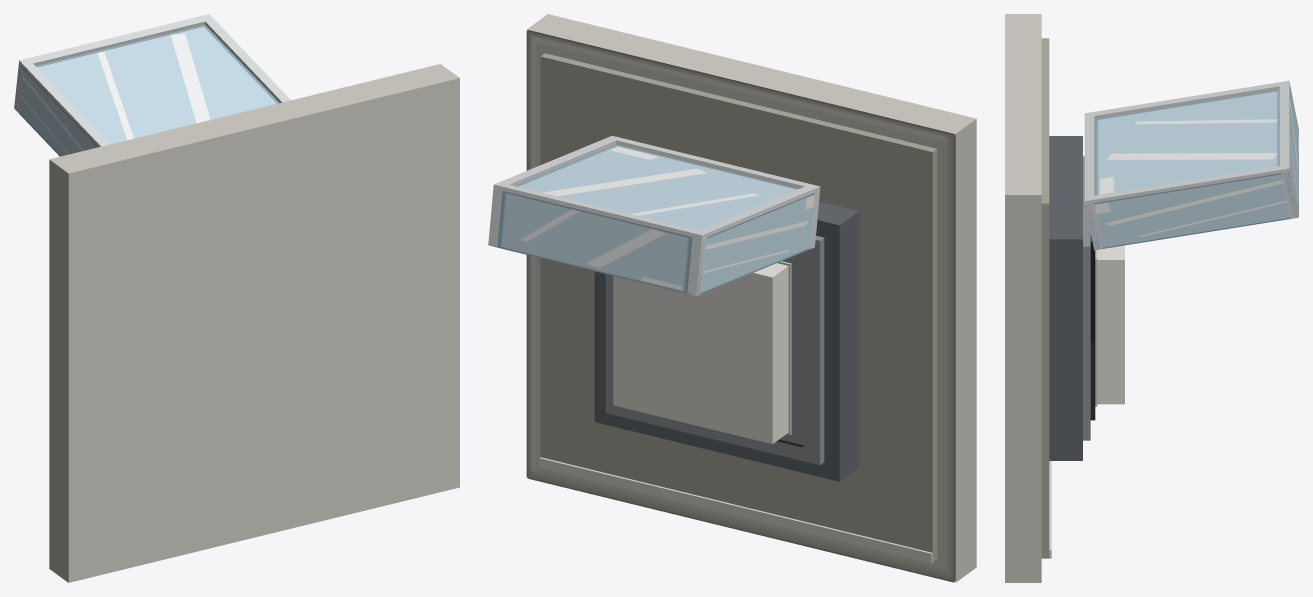
Rendered from cover_button_open.obj.
3 views of the same model, side by side, from view 1: azimuth 30°, elevation 25°; view 2: azimuth 150°, elevation 25°; view 3: azimuth 270°, elevation 25° (orthographic). The views are drawn at different scales.
Parts seen in each view (by area): view 1: Panel, Cover; view 2: Panel, Cover, Button, Base; view 3: Cover, Panel, Base, Button.
Boxes of the visible parts, box(x1,y1,x2,y2) form: Panel: box(49, 64, 459, 582); Cover: box(14, 14, 290, 156); Panel: box(526, 14, 976, 582); Cover: box(488, 135, 820, 295); Button: box(613, 261, 791, 443); Base: box(594, 201, 859, 481); Cover: box(1084, 80, 1298, 250); Panel: box(1005, 14, 1051, 582); Base: box(1049, 136, 1095, 460); Button: box(1095, 245, 1124, 406).
Bounding box in the file's own units: 0.875 × 0.875 × 0.6007.
Materials: 2 (2 with a texture image).
